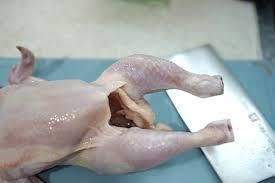chicken: (0, 13, 101, 51)
